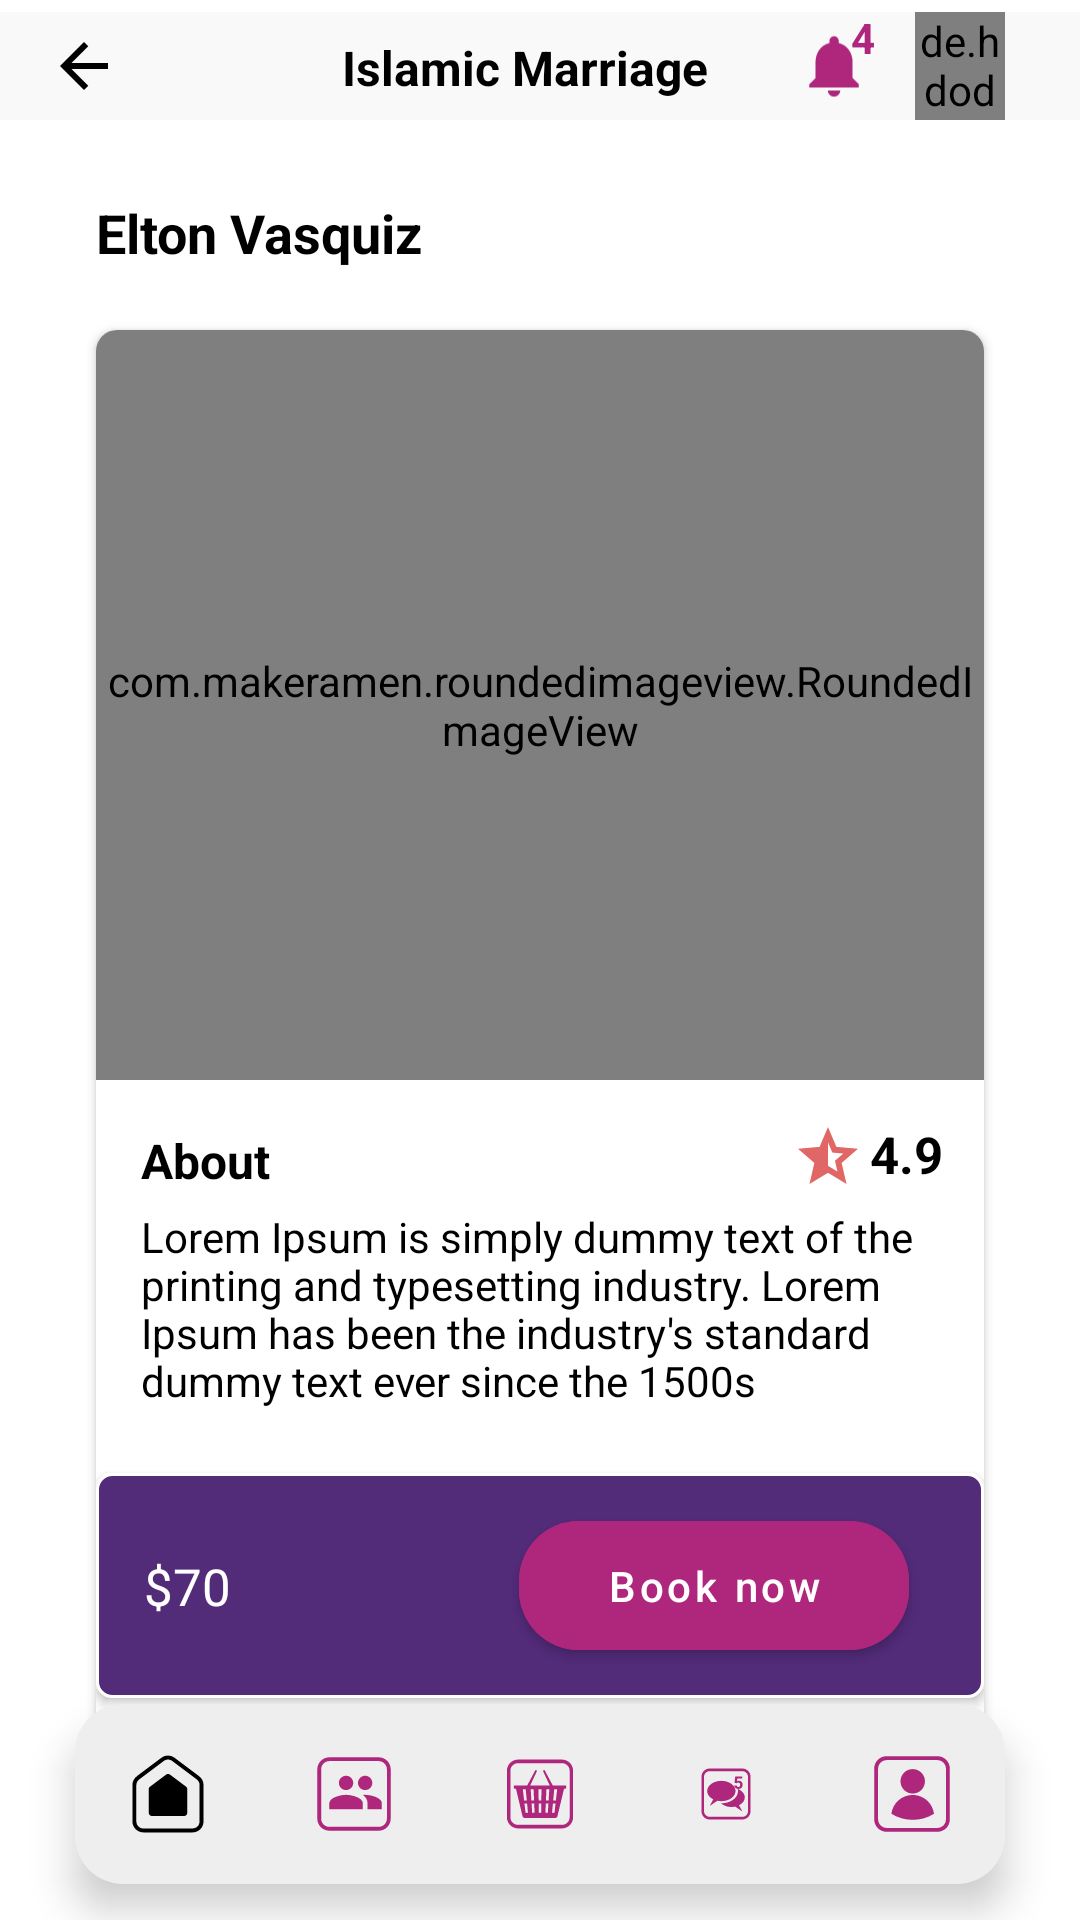

Screen size 1080*1920. Icon name, then its center in pixels as point (x, y):
arro backs: point (84, 66)
bell: point (839, 61)
star ratings: point (828, 1155)
